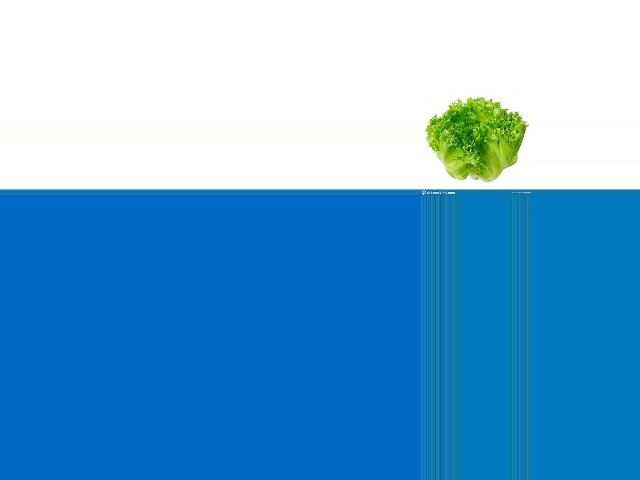lettuce: (425, 94, 524, 187)
